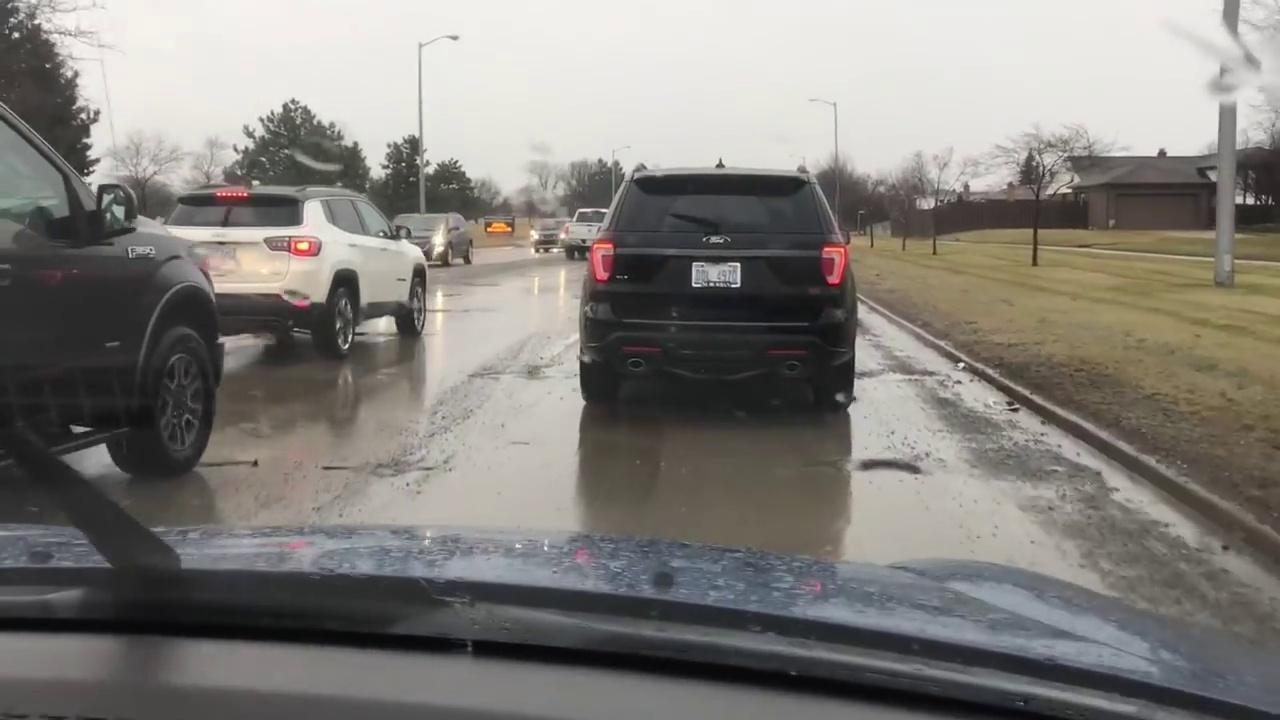pothole: (871, 459, 920, 479)
